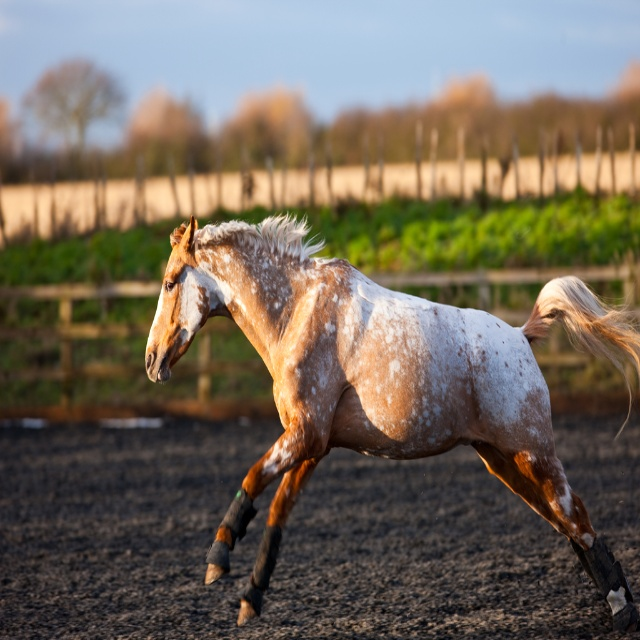Horse: (144, 213, 640, 630)
